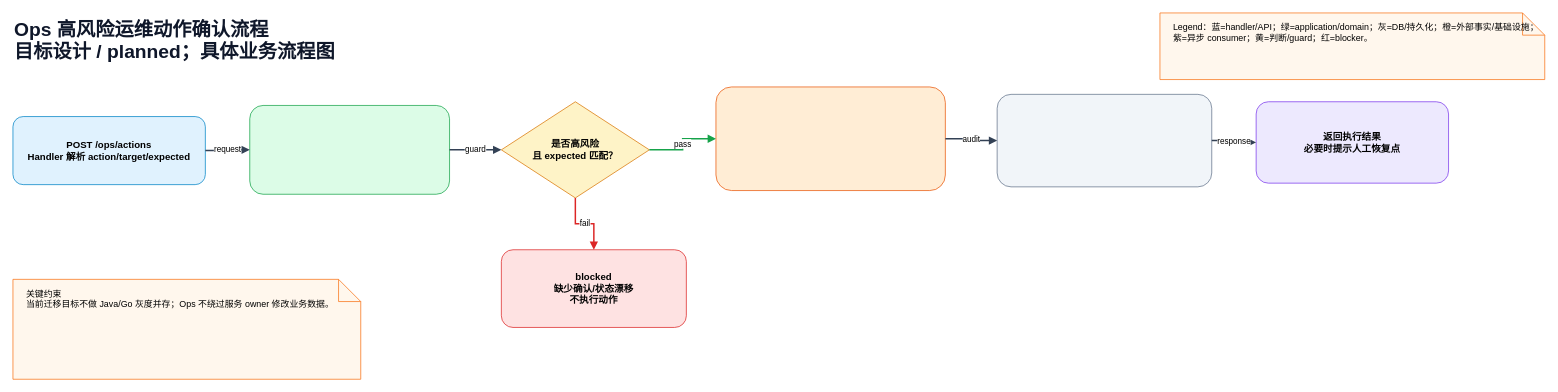
The diagram is 1558 pixels wide and 392 high, and some of its shapes have lost their labels. Each missing label, with the centre of its shape:
Ops application 加载操作者、目标状态、运行事实: point (349, 149)
执行受控动作 调用部署/配置/健康检查 adapter: point (830, 138)
记录 ops audit 结果、操作者、target、时间: point (1104, 140)
